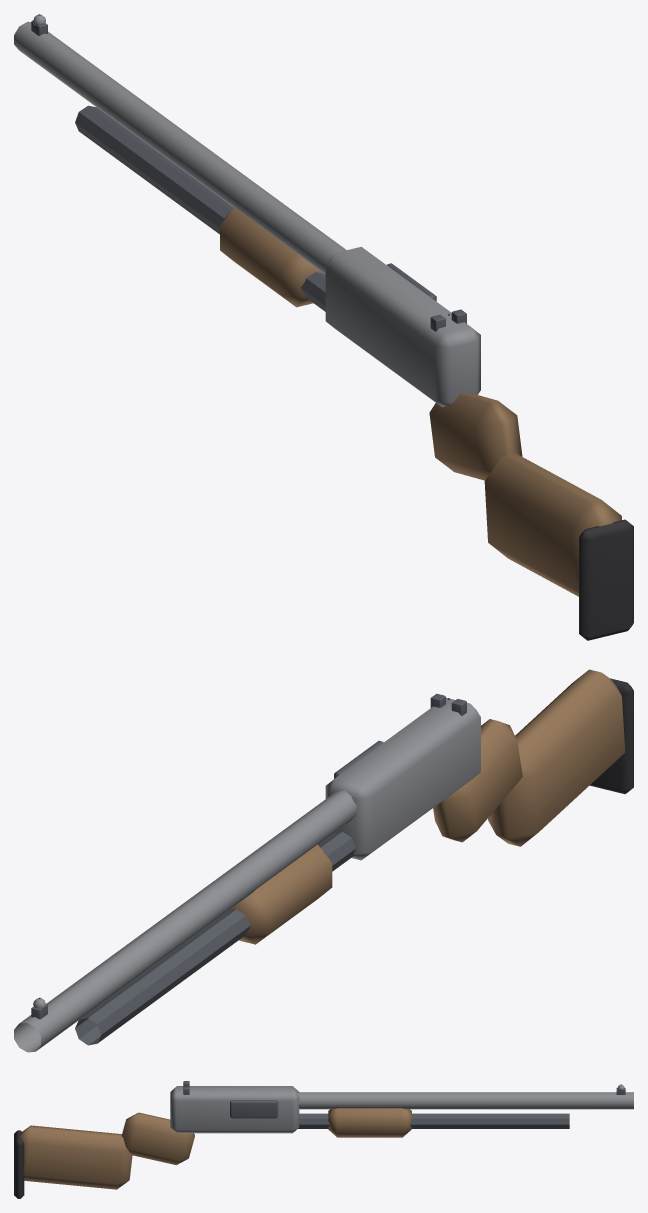
Rendered from shotgun.glb.
3 views of the same model, one above another, from view 1: azimuth 30°, elevation 25°; view 2: azimuth 150°, elevation 25°; view 3: azimuth 270°, elevation 25° (orthographic). The views are drawn at different scales.
Parts seen in each view (by area): view 1: body, pump; view 2: body, pump; view 3: body, pump.
Boxes of the visible parts, x1,y1,x2,y2 form: body: (14,14,633,640); pump: (220,207,323,307); body: (14,669,633,1052); pump: (228,844,332,944); body: (14,1081,633,1198); pump: (328,1108,411,1137).
Bounding box in the file's own units: 0.054 × 0.1871 × 0.963.
